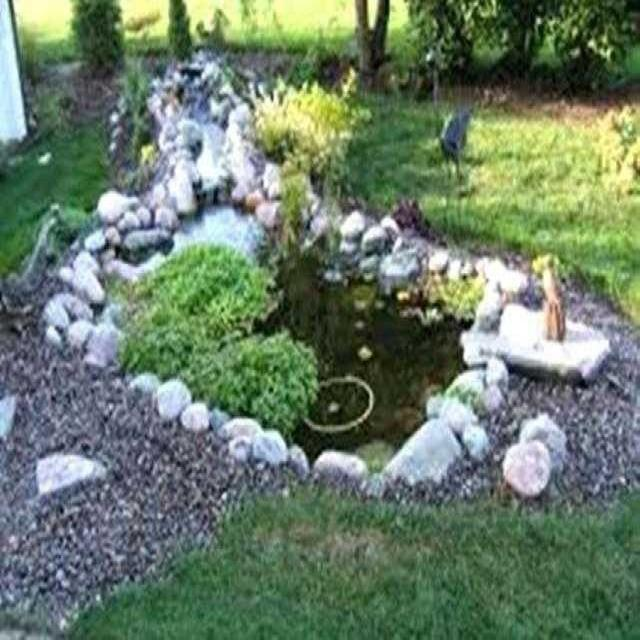Ponds: (37, 60, 530, 499)
